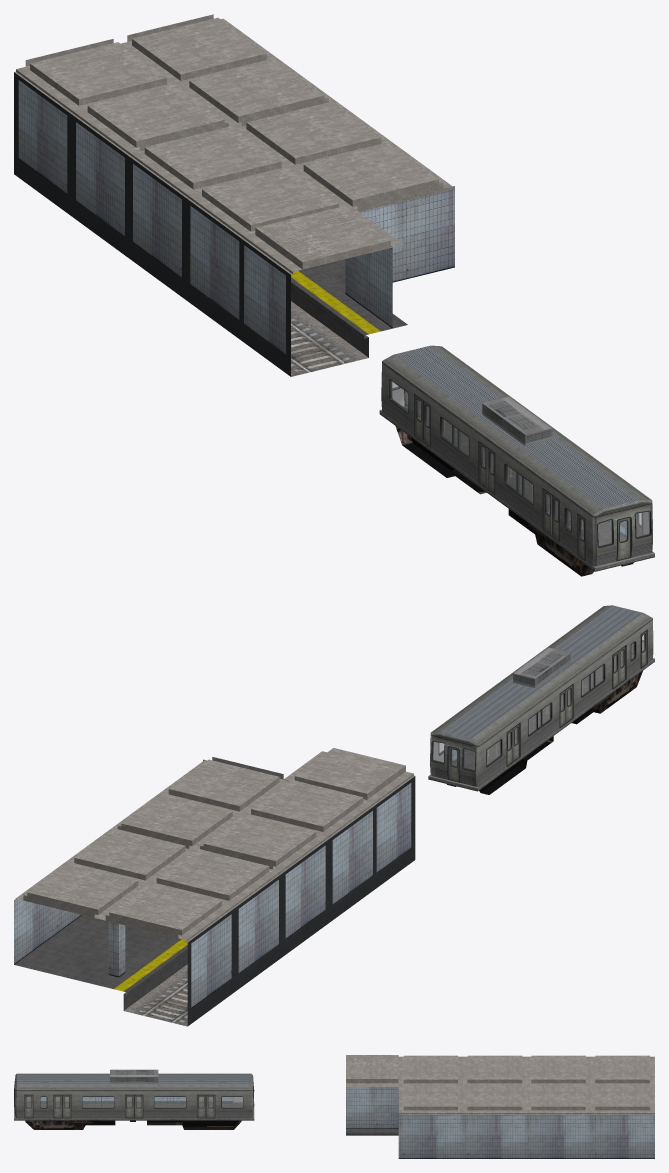
Rendered from metro.glb.
The picture shows the model from 3 angles, top to bottom: view 1: azimuth 30°, elevation 25°; view 2: azimuth 150°, elevation 25°; view 3: azimuth 270°, elevation 25°; orthographic projection. The views are drawn at different scales.
Parts seen in each view (by area): view 1: St_02, St_01, seats.003; view 2: St_01, St_02, seats.003, Column; view 3: St_02, St_01, seats.003.
Part boxes in pixels (x1,y1,x2,y2): St_02: [128, 98, 454, 376]; St_01: [14, 14, 337, 258]; seats.003: [379, 345, 654, 576]; St_01: [14, 825, 282, 1026]; St_02: [110, 748, 415, 956]; seats.003: [428, 605, 654, 794]; Column: [108, 903, 125, 977]; St_02: [346, 1055, 527, 1158]; St_01: [526, 1055, 654, 1158]; seats.003: [14, 1069, 254, 1129].
Bounding box in the file's own units: 13.23 × 6.7 × 62.37.
Materials: 17 (16 with a texture image).
